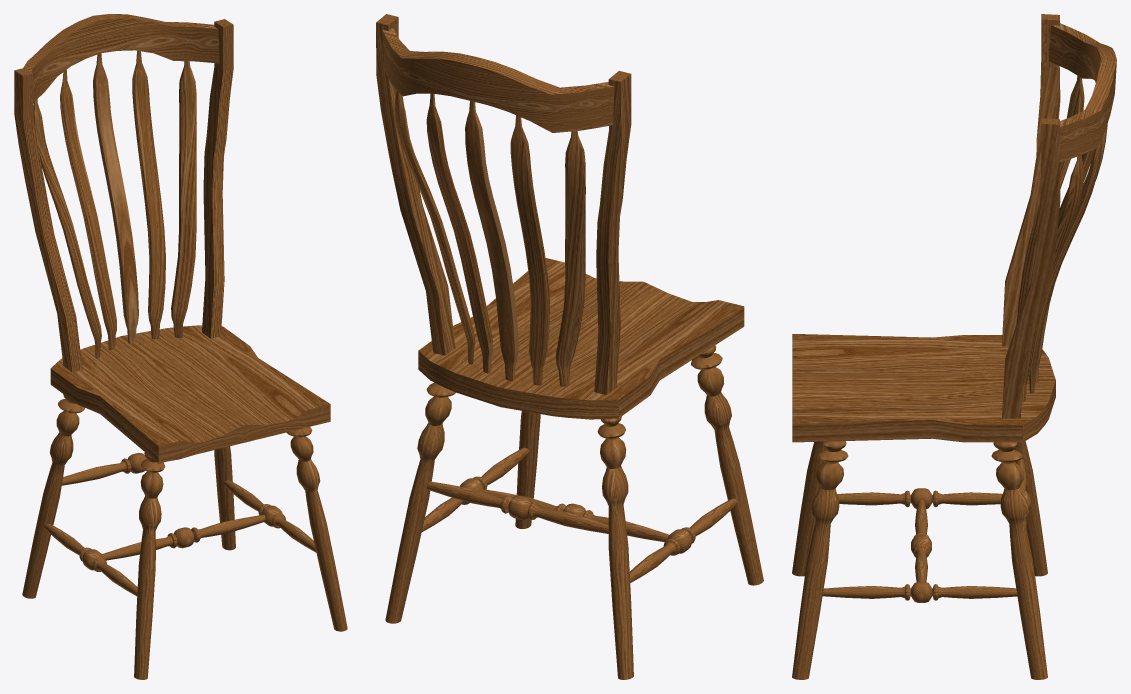
The model's file is sh_blend_swap_cc_0_oakchair.glb.
3 renders of one model, left to right at view 1: azimuth 30°, elevation 25°; view 2: azimuth 150°, elevation 25°; view 3: azimuth 270°, elevation 25°, orthographic. The views are drawn at different scales.
Bounding box in the file's own units: 0.491 × 1.18 × 0.612.
2 materials, 2 textured.
